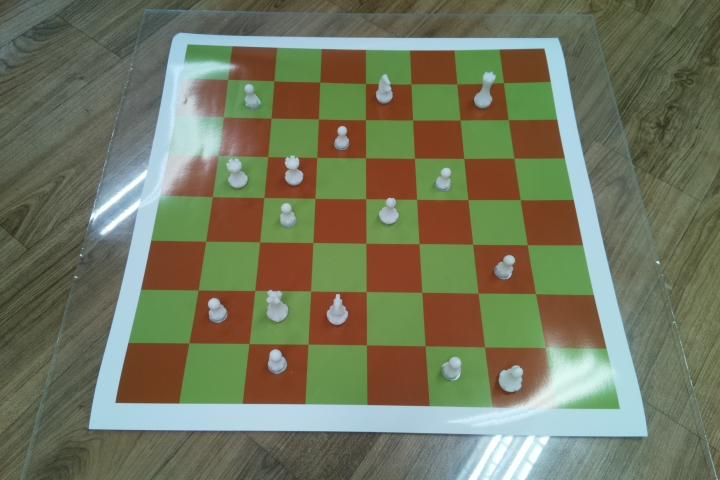chessboard-detect: (115, 45, 624, 409)
